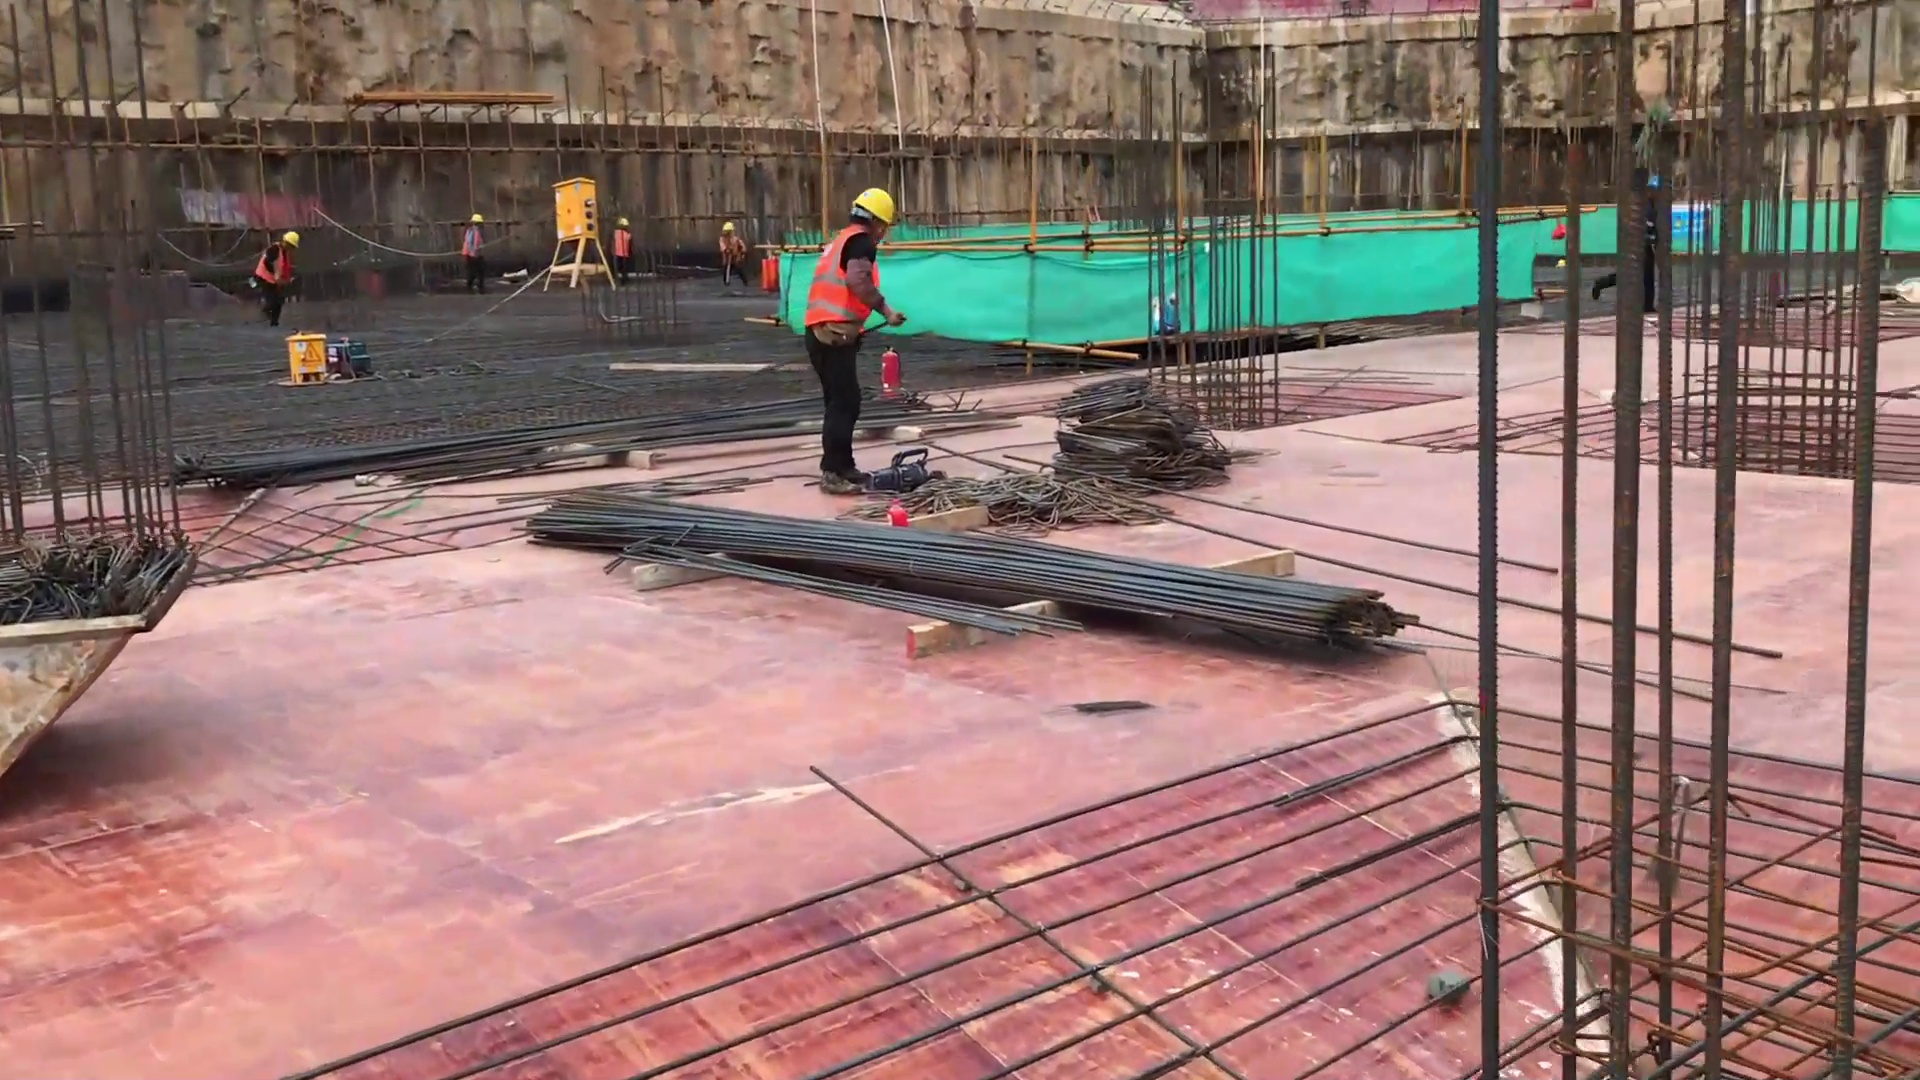helmet: (850, 182, 903, 231), (466, 211, 488, 228), (720, 219, 745, 233), (286, 228, 296, 255), (618, 213, 634, 228)
person: (798, 181, 896, 491), (453, 201, 496, 306), (253, 227, 299, 323), (709, 210, 751, 290), (609, 200, 641, 293)
vest: (803, 233, 881, 323), (256, 243, 288, 287), (460, 231, 484, 259), (721, 233, 743, 262), (617, 228, 633, 257)
